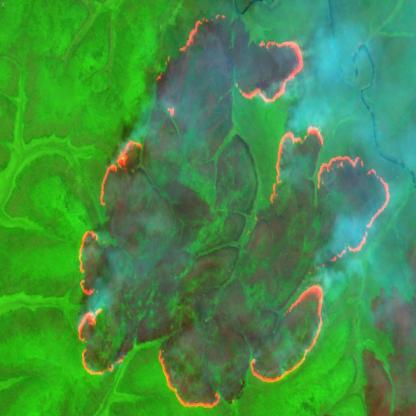fire: (74, 0, 394, 416)
